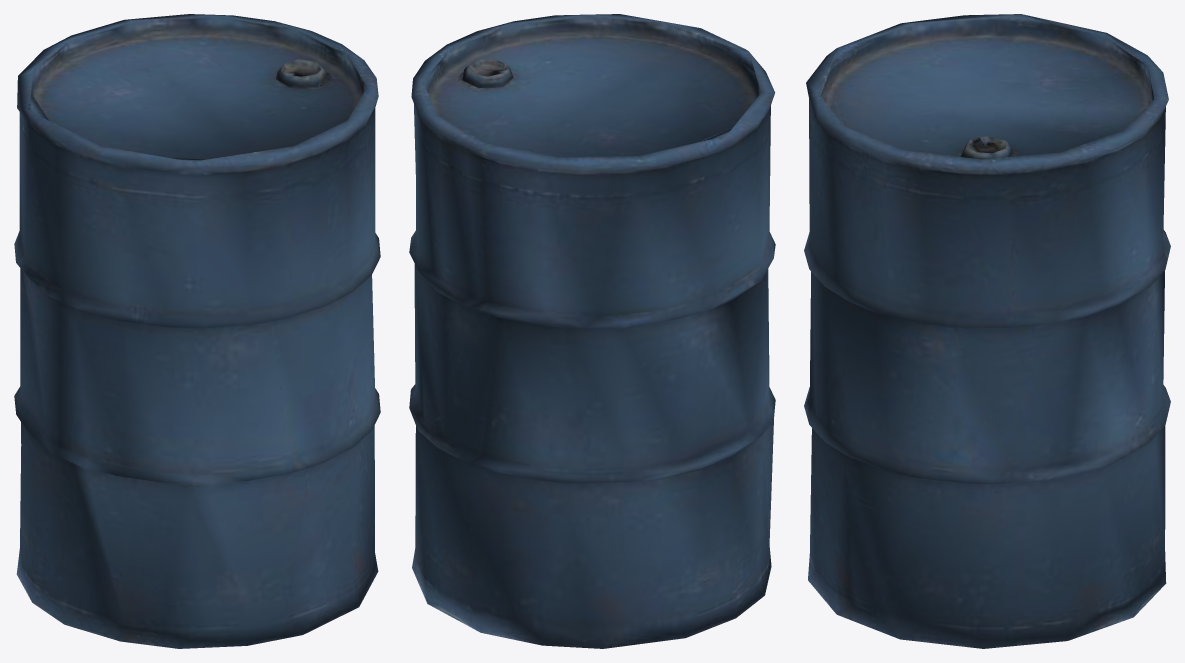
The model's file is barrel2.glb.
3 renders of one model, left to right at view 1: azimuth 30°, elevation 25°; view 2: azimuth 150°, elevation 25°; view 3: azimuth 270°, elevation 25°, orthographic.
Visible parts, largest first — view 1: lo; view 2: lo; view 3: lo.
Part boxes in pixels (left/top/right/bottom): lo: left=14, top=14, right=380, bottom=648; lo: left=409, top=14, right=775, bottom=648; lo: left=804, top=14, right=1170, bottom=648.
Bounding box in the file's own units: 0.6336 × 0.9308 × 0.638.
1 material, 1 textured.
